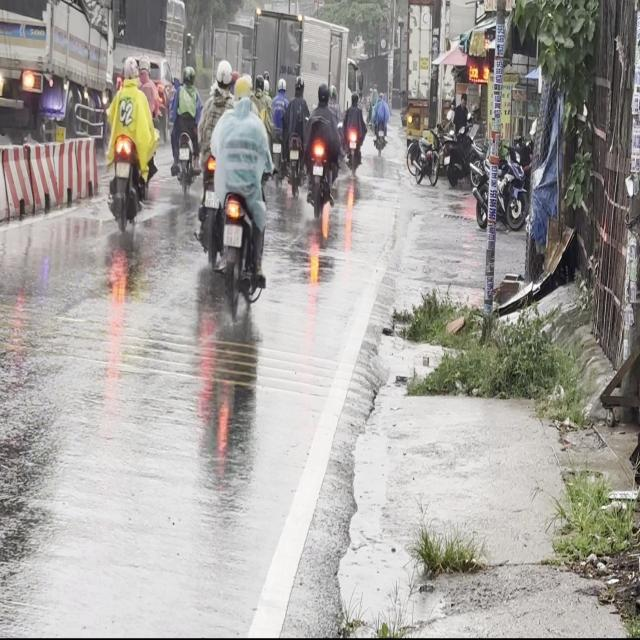helmet: (214, 58, 233, 92), (232, 72, 252, 104), (121, 54, 138, 83)
licenseplate: (200, 61, 272, 330), (103, 53, 158, 230)
nohelmet: (223, 224, 241, 247), (115, 161, 129, 177), (204, 190, 217, 206)
